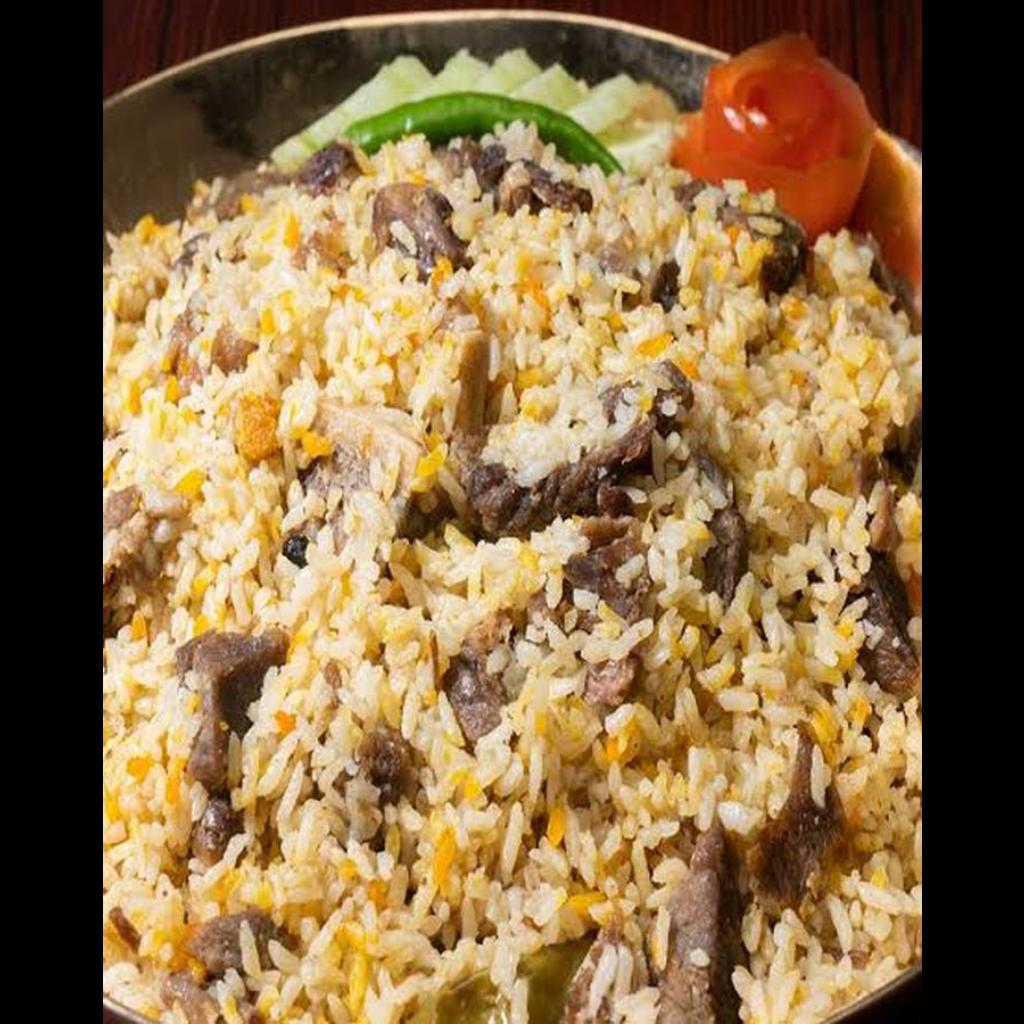biriyani: (102, 37, 920, 1023)
